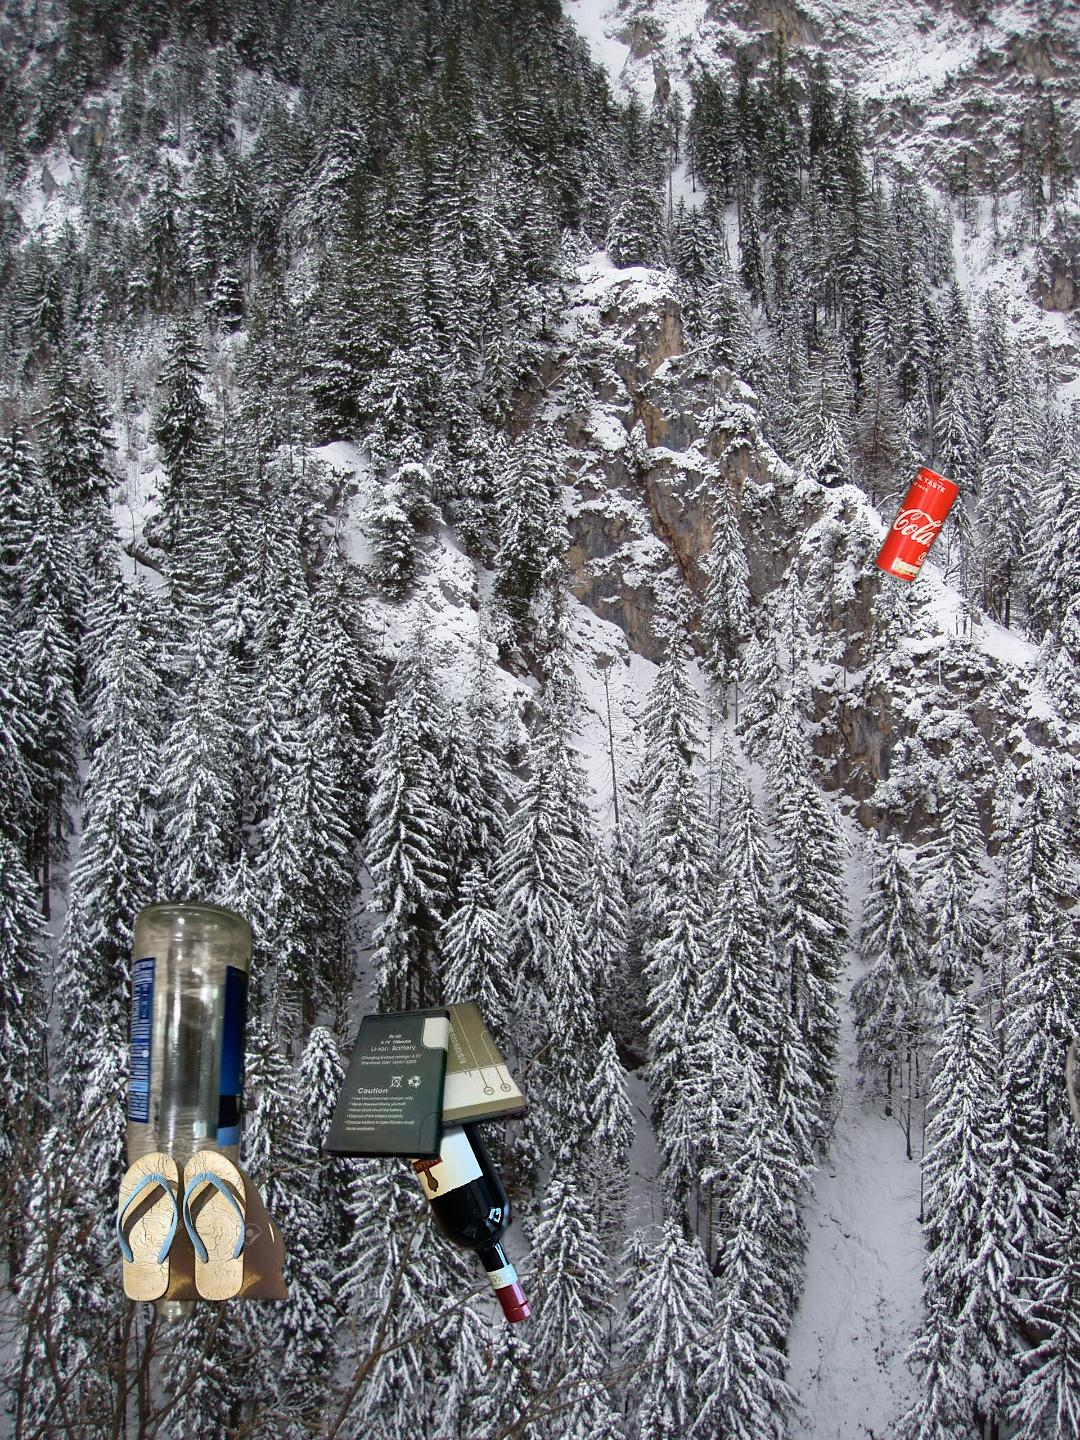battery: (321, 998, 533, 1163)
glass: (111, 893, 258, 1403), (358, 1008, 538, 1331), (1060, 1024, 1080, 1143)
metal-cans: (869, 459, 964, 588)
shoes: (113, 1147, 293, 1310)
